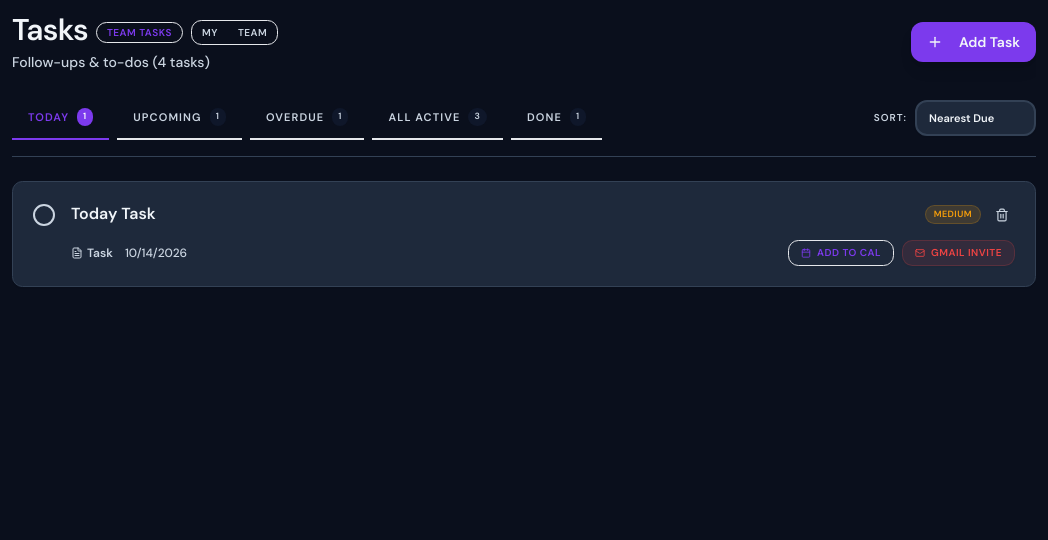
it: CRMTasks › filters tasks by "all" active tab
The image size is (1048, 540).
Click the text "All Active" at (424, 117), box [388,108,460,125]
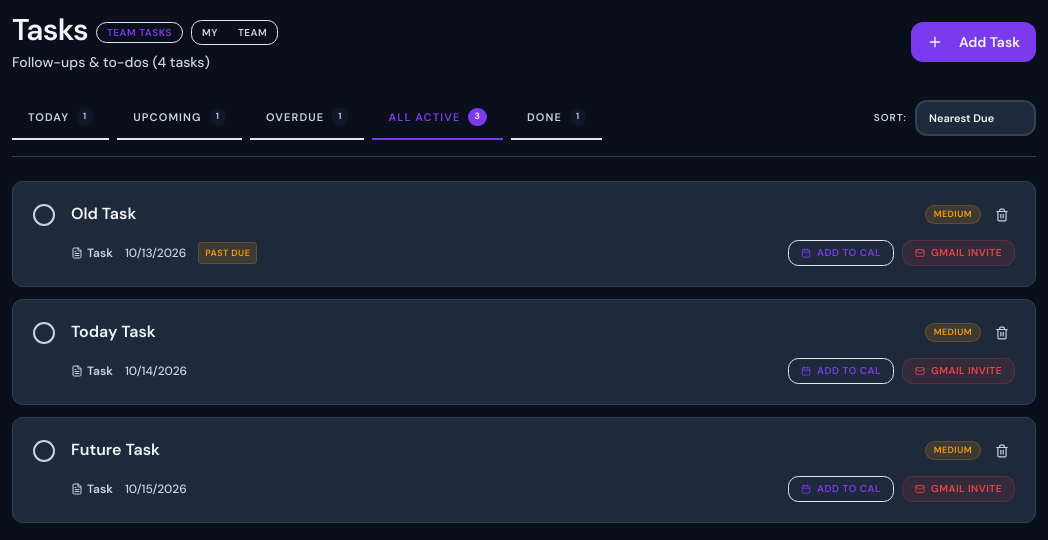
Expected: the heading "Today Task" is shown, [71,320,156,344]
Now the heading "Future Task" is shown, box [71,438,160,462]
Now the heading "Old Task" is shown, box [71,202,136,226]
